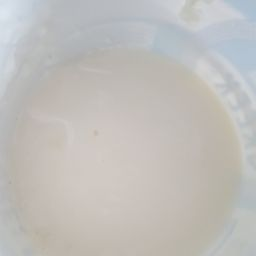Yogurt: (25, 63, 233, 244), (60, 91, 215, 231)
